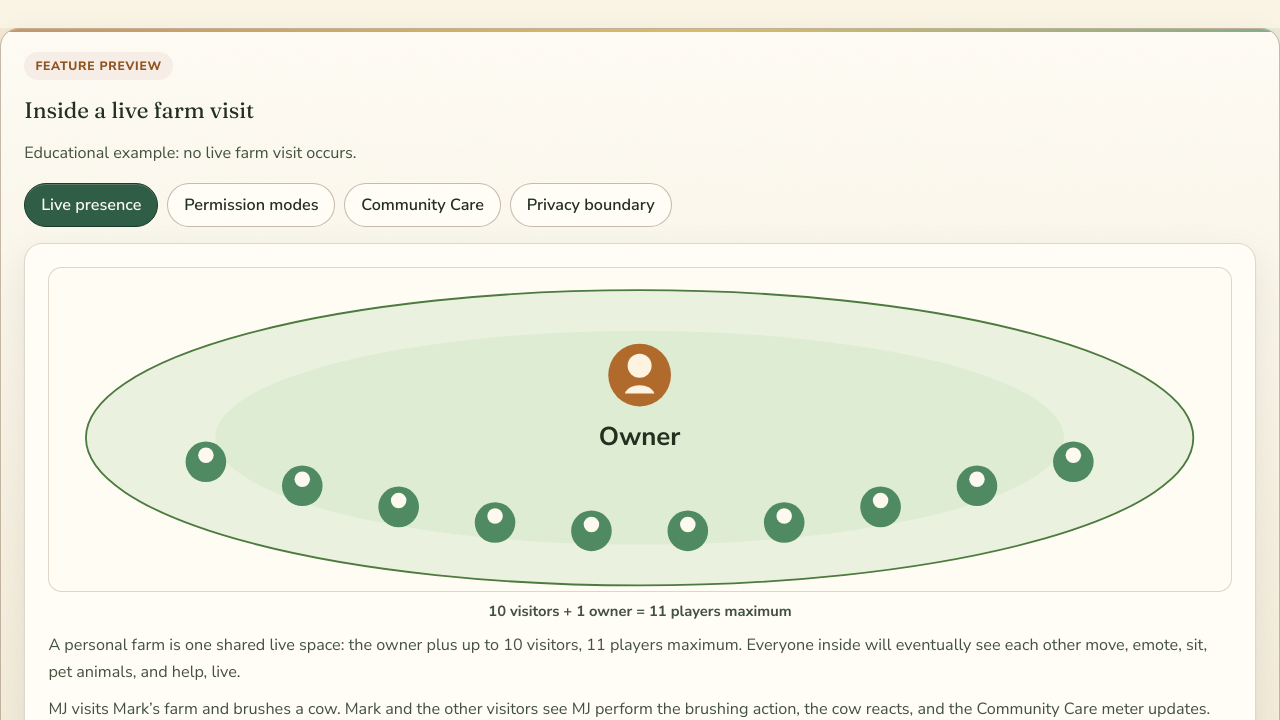
community care meter › states what community care never does
This screenshot has width=1280, height=720.
Click the tab "Community Care" at (423, 205), box [344,183,501,227]
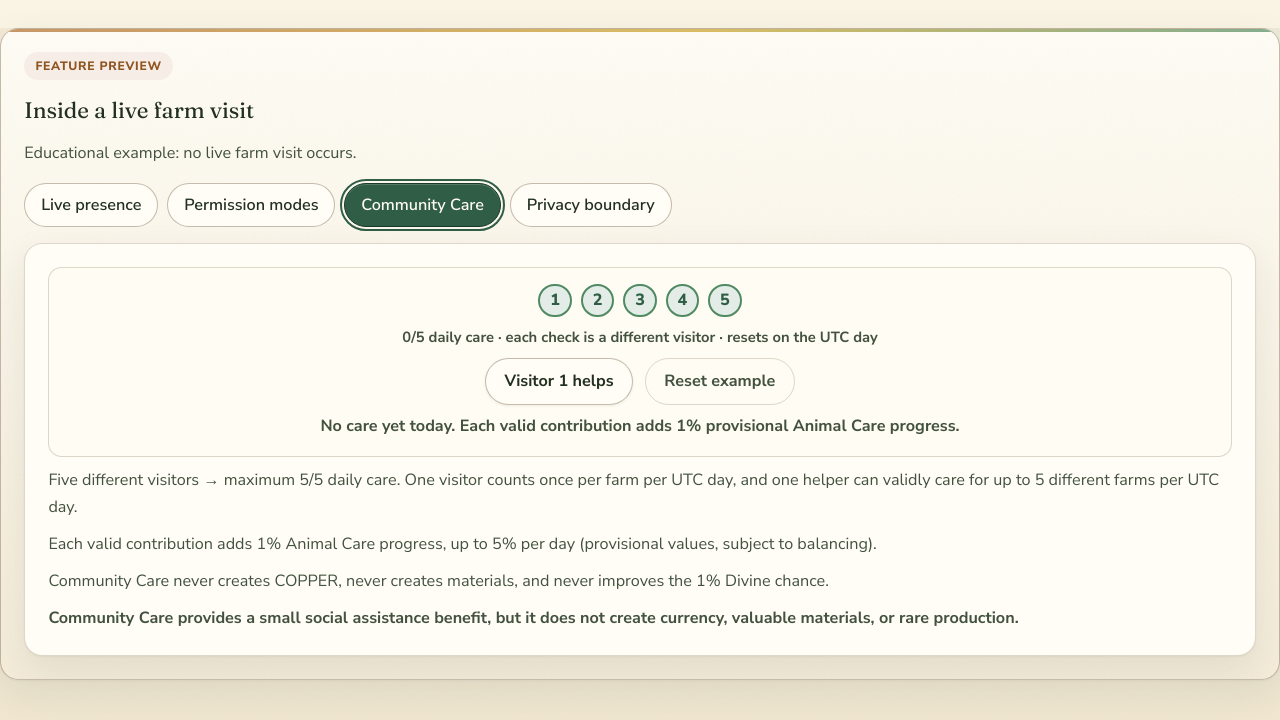
Check: the text "never creates COPPER, never creates materials, and never improves the 1% Divine chance" is shown, box [48,570,829,592]
